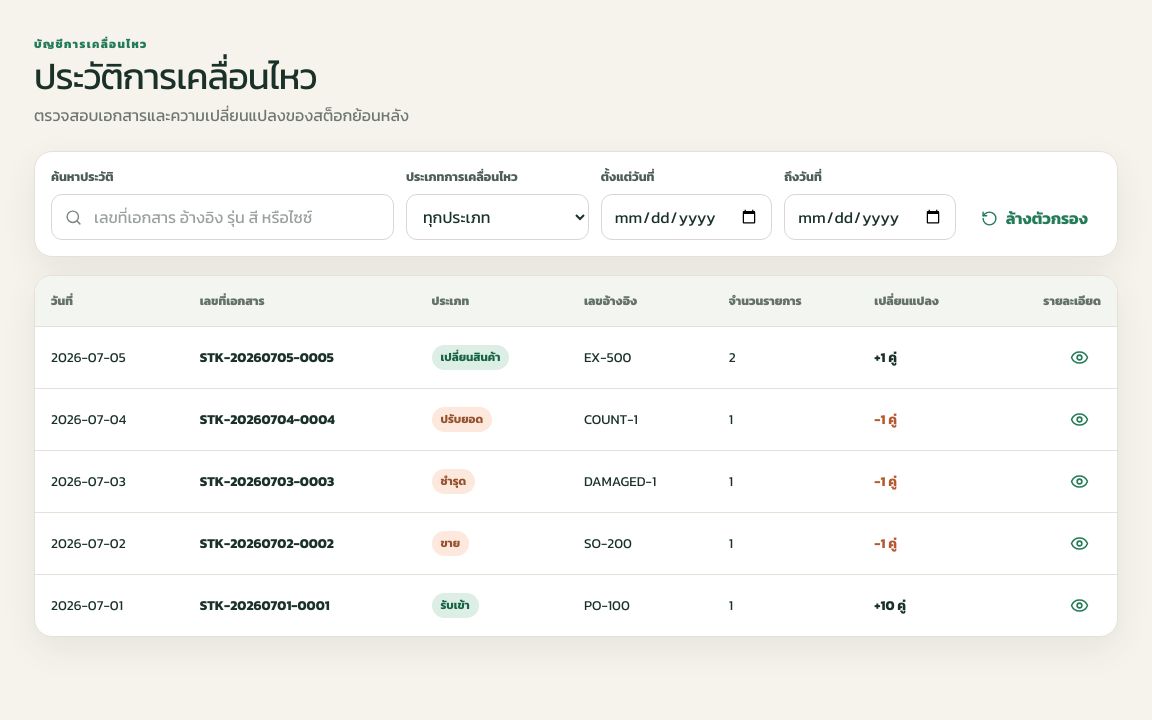
Test case: HistoryPage › shows an empty state when no movement matches
Expected: the table named "ประวัติการเคลื่อนไหวสต็อก" is shown, [35,276,1117,636]
Type "ไม่มีเอกสารนี้" into the search field labelled "ค้นหาประวัติ" at point(237, 217), box [82,195,393,239]
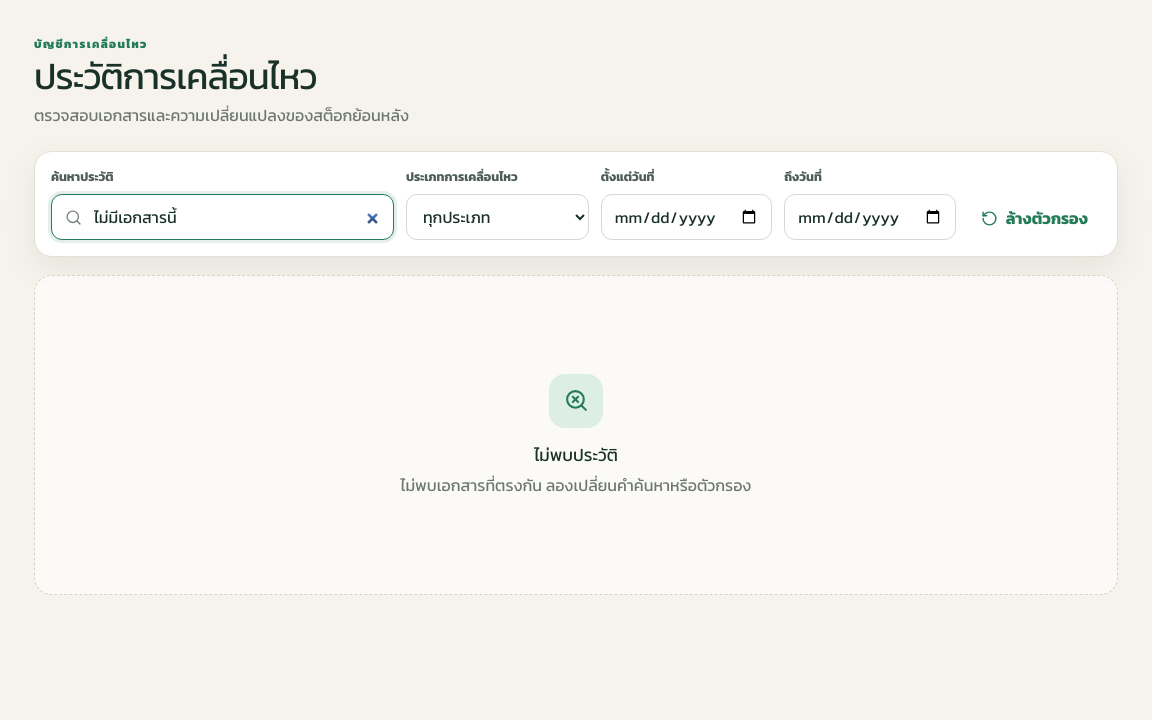
Expected: the message "ไม่พบประวัติ" shows "ลองเปลี่ยนคำค้นหาหรือตัวกรอง", [401,473,751,497]
Expected: the table "ประวัติการเคลื่อนไหวสต็อก" is gone
